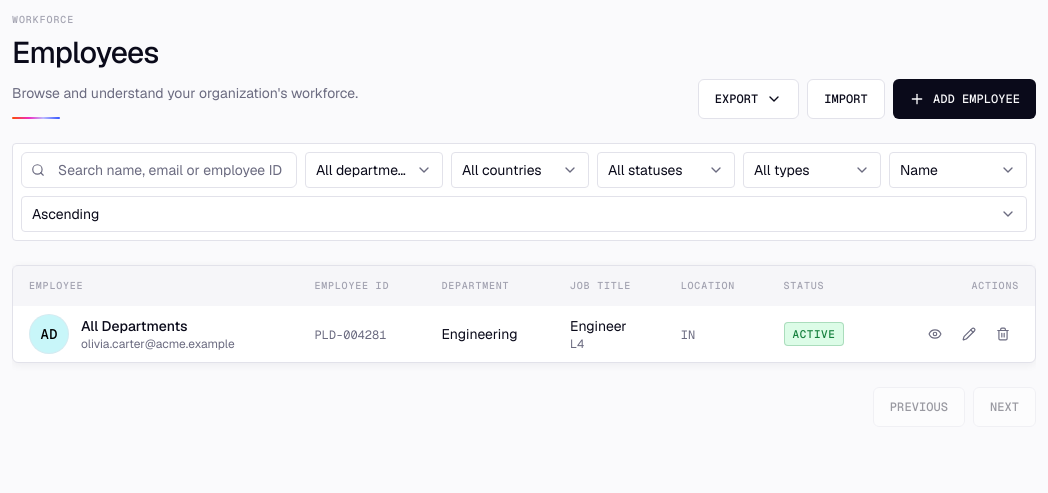
Test: employee directory › does not reuse rows while a department filter request is unresolved
Expected: the text "All Departments" is shown, [81,317,188,335]
Click the dropdown named "Department filter".
click(374, 170)  # box [305,152,443,188]
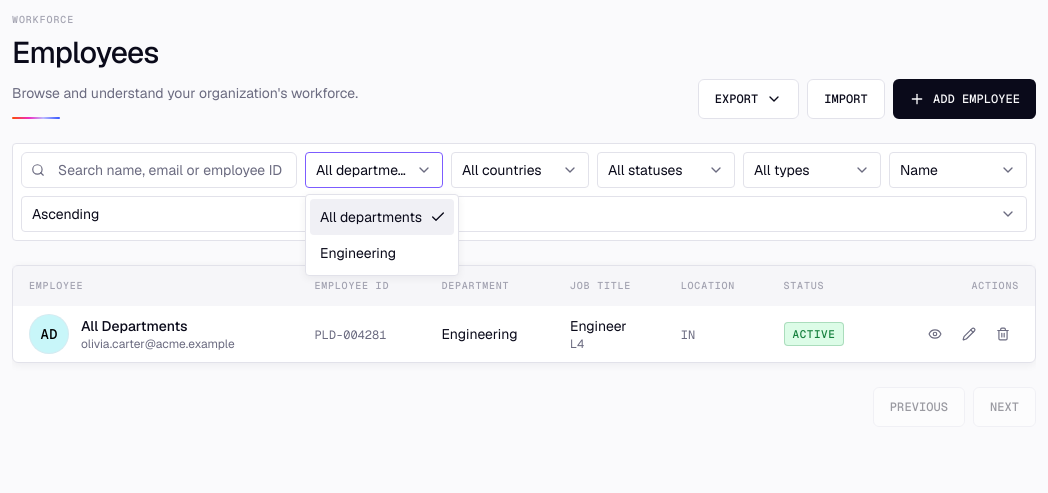
Click the option "Engineering".
click(358, 253)  # box [320,244,396,262]
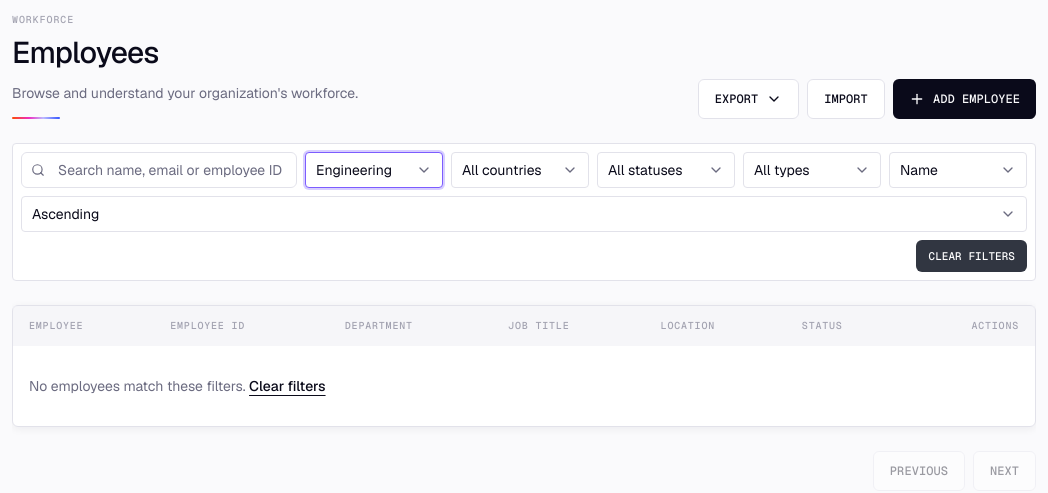
Now the dropdown "All departments" is gone
